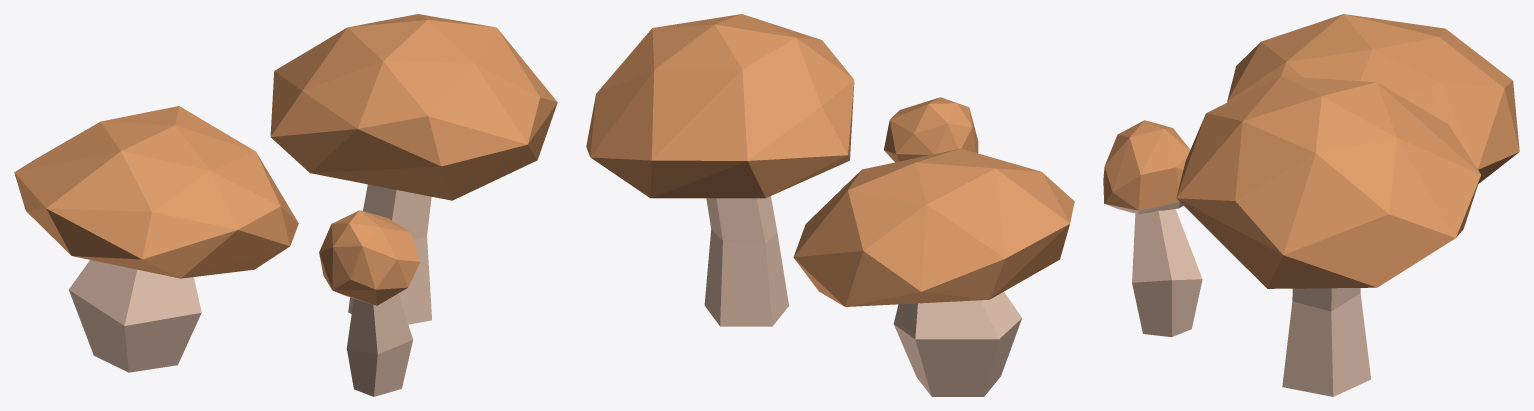
File: Mushroom_f_07.fbx
3 views of the same model, side by side, from view 1: azimuth 30°, elevation 25°; view 2: azimuth 150°, elevation 25°; view 3: azimuth 270°, elevation 25° (orthographic). The views are drawn at different scales.
Visible parts, largest first — view 1: Mushroom_f_07; view 2: Mushroom_f_07; view 3: Mushroom_f_07.
Part boxes in pixels (<box>): Mushroom_f_07: <box>14,14,557,396</box>; Mushroom_f_07: <box>586,14,1074,396</box>; Mushroom_f_07: <box>1103,14,1519,396</box>.
Bounding box in the file's own units: 0.4553 × 0.2564 × 0.3225.
